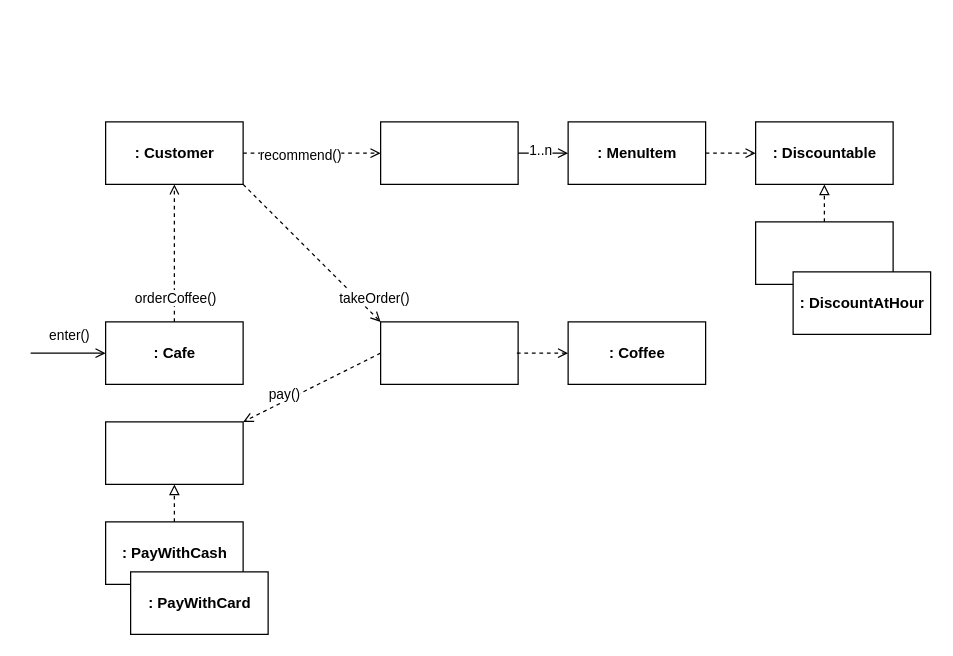
The diagram is 953 pixels wide and 656 high, and some of its shapes have lost their labels. The shapes that lost their labels are listed below. From the top down, each one's box as (x1, y1, x2, y2) in pixels, then its label:
(379, 121, 518, 184): : Menu
(754, 221, 893, 284): : DiscountAtDate
(379, 321, 518, 384): : Barista
(104, 421, 243, 484): : Payable
